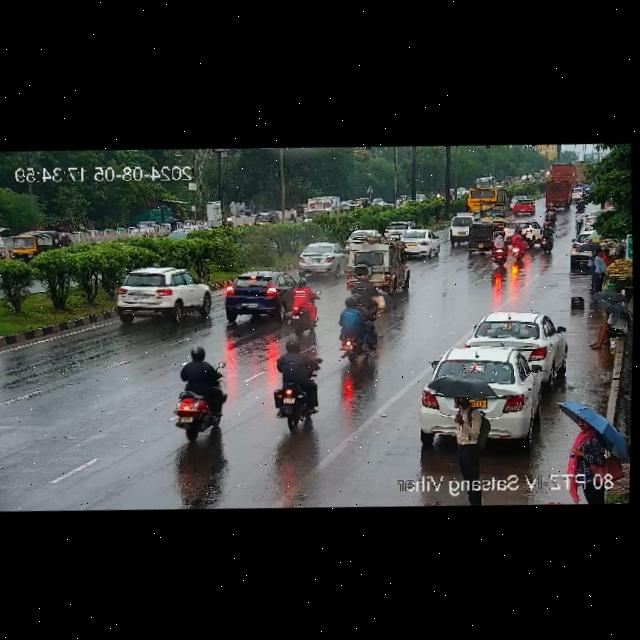bus: (460, 185, 509, 213)
car: (410, 344, 564, 450), (115, 264, 214, 329), (462, 309, 564, 372), (220, 269, 303, 319), (341, 243, 413, 294), (4, 227, 71, 262), (297, 244, 343, 276), (392, 232, 441, 260), (465, 220, 495, 255), (225, 211, 276, 231), (445, 215, 474, 250), (344, 225, 390, 247), (507, 196, 538, 216)
motorcycle: (163, 342, 235, 447), (270, 337, 322, 427), (335, 293, 383, 360), (276, 279, 315, 333), (345, 277, 384, 311), (527, 222, 555, 254), (483, 231, 506, 266), (507, 228, 526, 261), (542, 202, 557, 225)
person: (444, 379, 502, 482), (568, 413, 619, 475), (586, 297, 628, 347), (587, 247, 611, 298), (571, 201, 588, 234)
truck: (300, 192, 345, 221), (543, 179, 576, 209), (549, 160, 581, 181)
